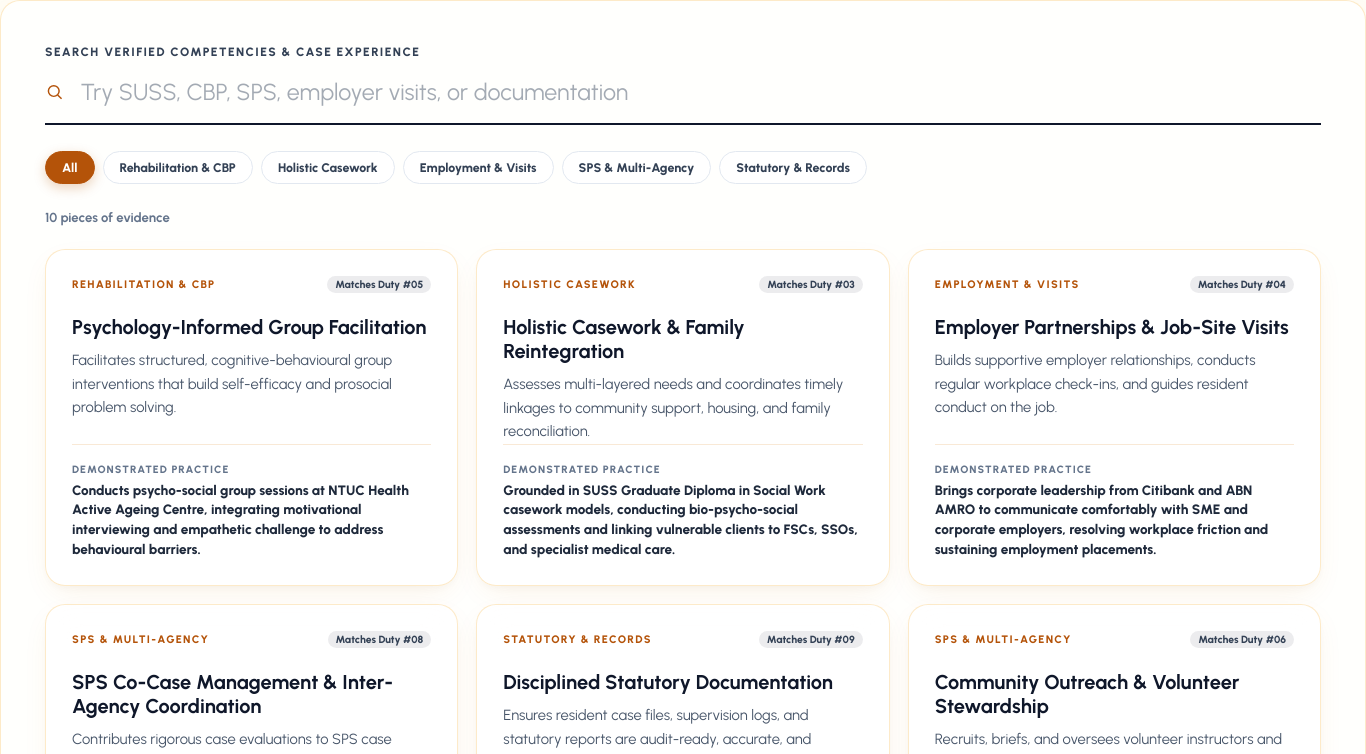
Test: case-management evidence finder › filters by one accessible category at a time
This screenshot has width=1366, height=754.
Click the button "SPS & Multi-Agency" at [636, 168], box [562, 151, 711, 184]
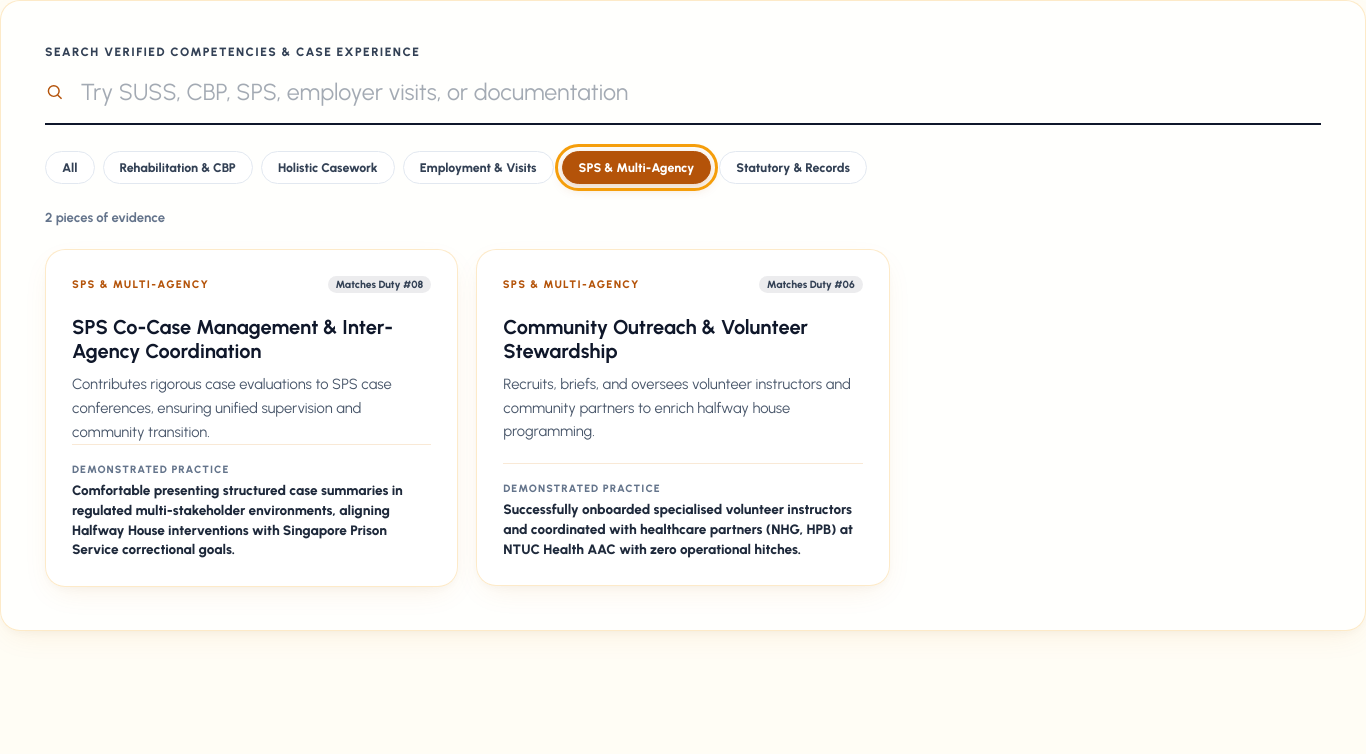
Now the message reads "2 pieces of evidence", box [45, 210, 165, 225]
